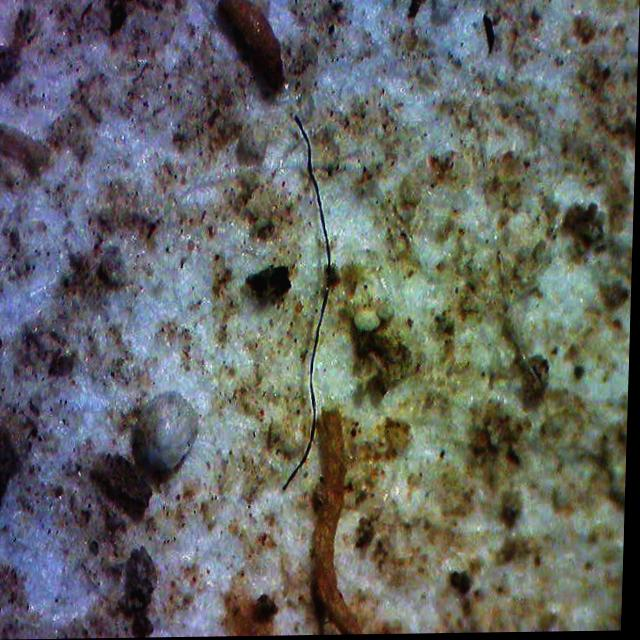microplastic: (278, 114, 340, 493)
